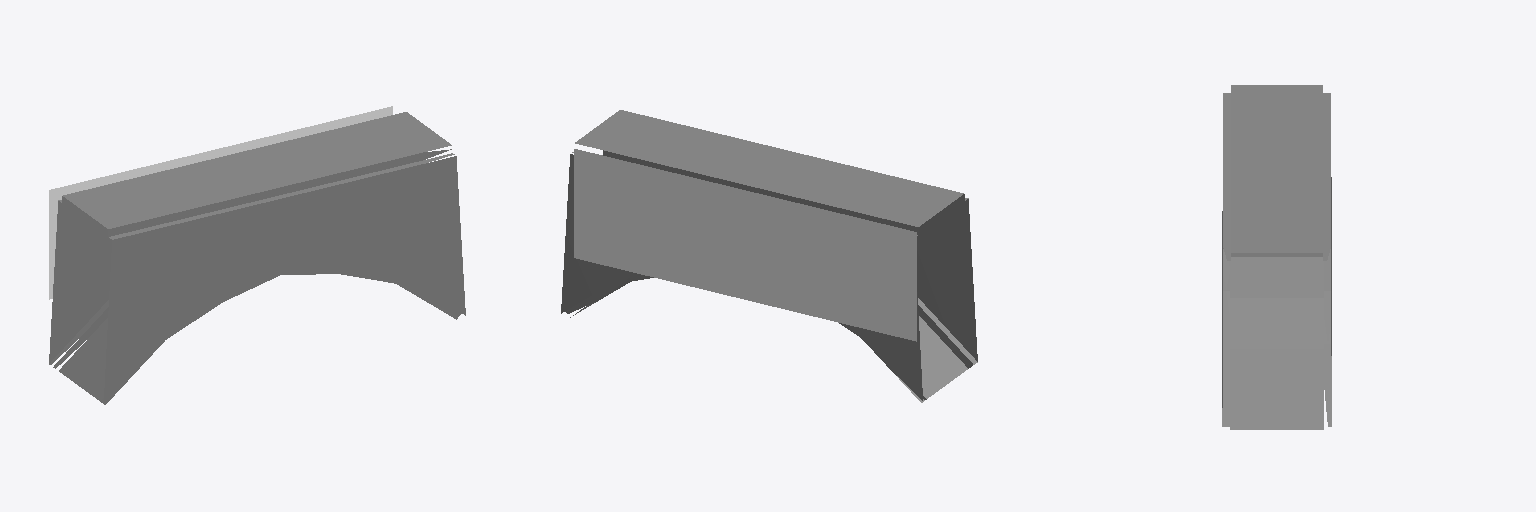
The model's file is Letrero.obj.
3 views of the same model, side by side, from view 1: azimuth 30°, elevation 25°; view 2: azimuth 150°, elevation 25°; view 3: azimuth 270°, elevation 25° (orthographic).
Visible parts, largest first — view 1: Letrero, Plane001; view 2: Plane001, Letrero; view 3: Letrero.
Part boxes in pixels (left/top/right/bottom): Letrero: left=49, top=112, right=465, bottom=404; Plane001: left=49, top=106, right=392, bottom=299; Plane001: left=574, top=149, right=916, bottom=341; Letrero: left=561, top=110, right=977, bottom=402; Letrero: left=1222, top=85, right=1331, bottom=429.
Size of the model in its own units: 1.98 by 0.9212 by 0.5449.